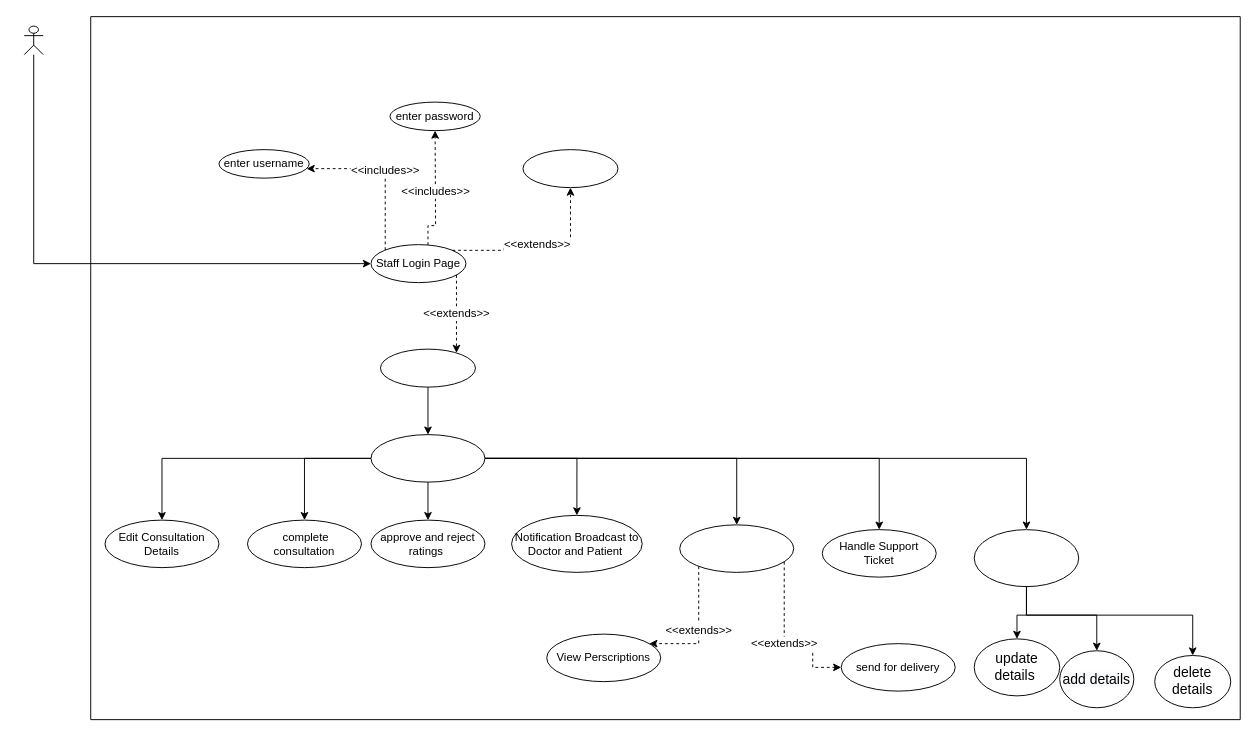
Some shapes in this 1257 by 736 pixel diagram are drawn without their labels. The centre of each missing label's shape, as x and y in pixels:
"Login Fail" belongs at point (570, 168).
"Login successful" belongs at point (427, 367).
"medicine List" belongs at point (1026, 558).
"Patient" belongs at point (33, 40).
"perscription functions" belongs at point (736, 548).
"Staff Home page" belongs at point (427, 458).
